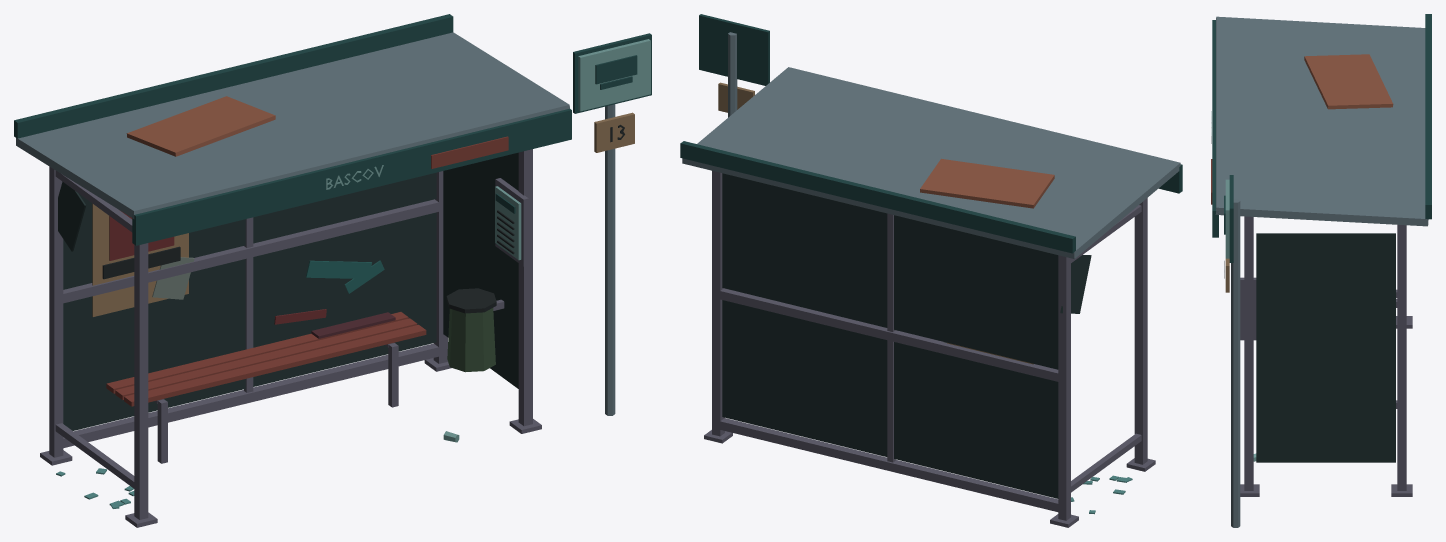
Rendered from statie_bascov.glb.
3 views of the same model, side by side, from view 1: azimuth 30°, elevation 25°; view 2: azimuth 150°, elevation 25°; view 3: azimuth 270°, elevation 25° (orthographic). The views are drawn at different scales.
Parts seen in each view (by area): view 1: Statie, Geamuri; view 2: Geamuri, Statie; view 3: Statie, Geamuri.
Boxes of the visible parts, left/top/right/bottom form: Statie: left=14, top=14, right=651, bottom=527; Geamuri: left=58, top=152, right=518, bottom=430; Geamuri: left=722, top=173, right=1091, bottom=498; Statie: left=680, top=14, right=1182, bottom=527; Statie: left=1211, top=14, right=1431, bottom=527; Geamuri: left=1256, top=233, right=1395, bottom=462.
Bounding box in the file's own units: 4.1 × 2.77 × 1.66.
